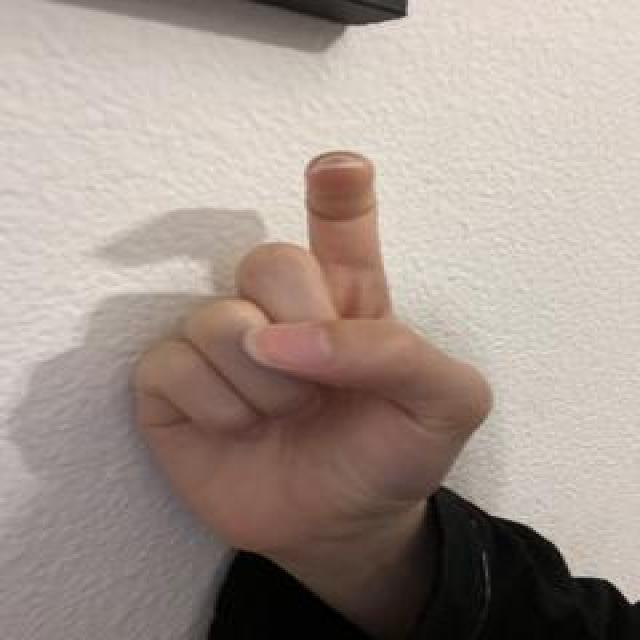X: (126, 147, 502, 557)
